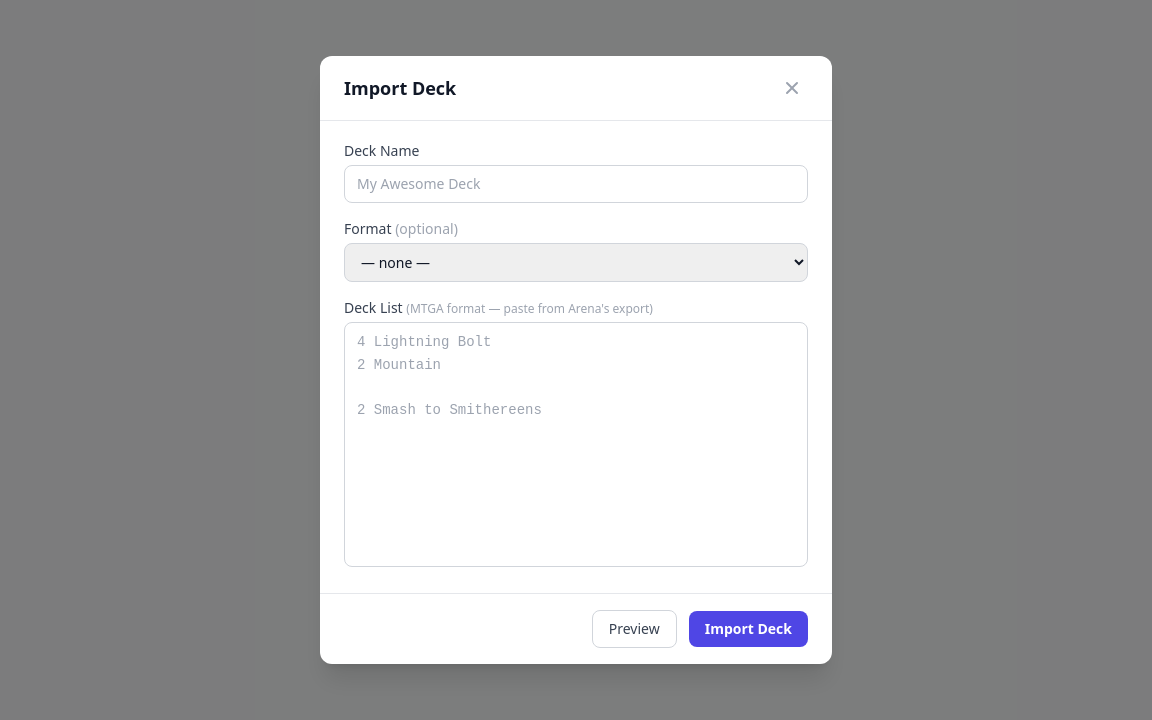
it: ImportModal — empty textarea validation › shows a validation message when Preview is clicked with empty textarea
The width and height of the screenshot is (1152, 720).
Click the button with test id "import-preview-button".
click(634, 629)  # box [592,610,677,648]
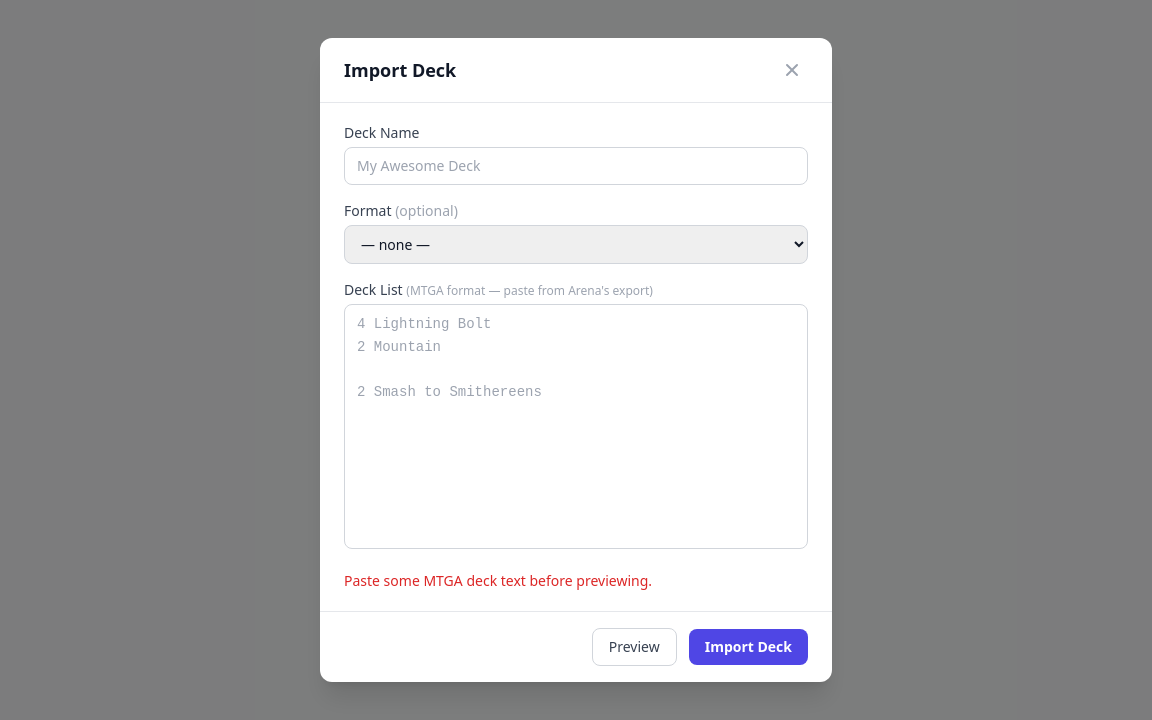
Expected: the message "Paste some MTGA deck text before previewing." is shown, [344,571,652,590]
